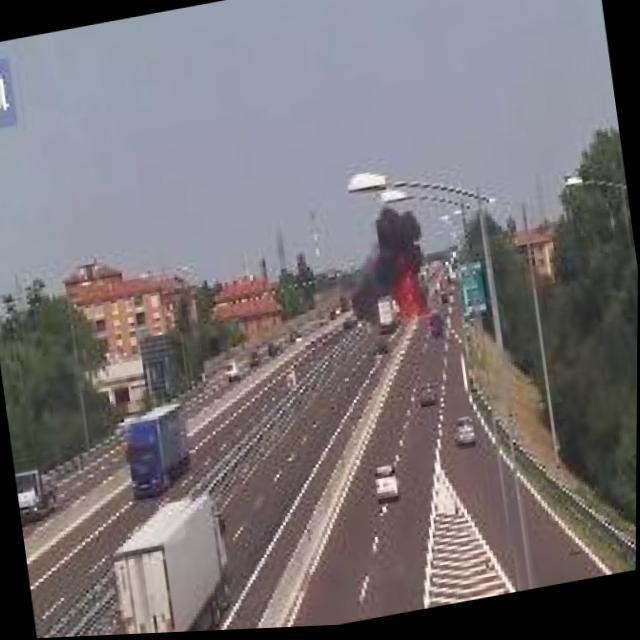fire: (388, 258, 433, 327)
